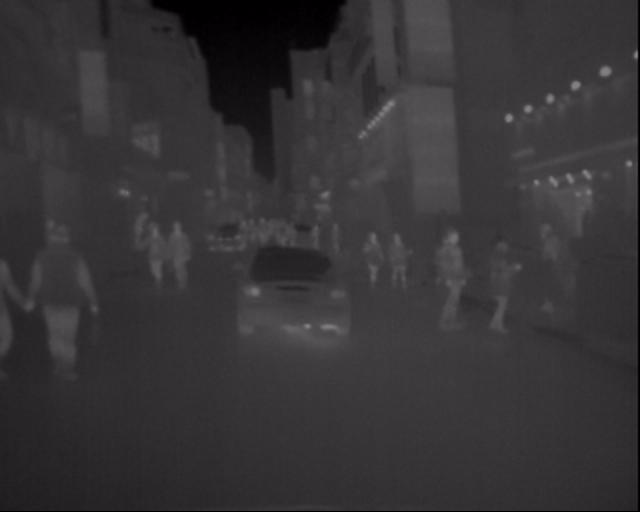person: (19, 225, 82, 396), (437, 225, 469, 331), (490, 239, 516, 328), (253, 218, 318, 249), (171, 225, 196, 291), (364, 233, 388, 291), (148, 221, 168, 283), (394, 231, 415, 286)
